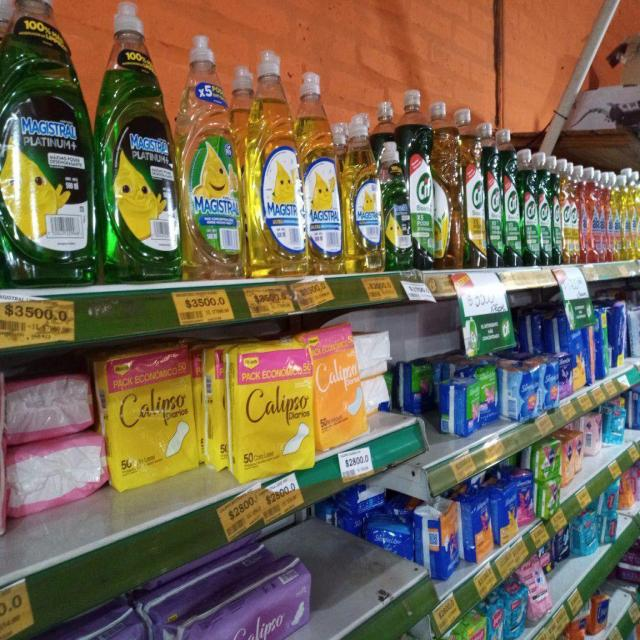ala_conc_amarillo: (621, 170, 631, 261), (606, 170, 615, 262), (613, 170, 621, 262), (631, 172, 639, 261)
ala_conc_rojo: (590, 167, 605, 263), (580, 164, 590, 264)
cif_conc_bot_amarilla: (434, 101, 461, 270), (465, 123, 486, 269), (562, 158, 576, 265)
cif_conc_botella_verde: (409, 89, 434, 270), (487, 124, 504, 267), (504, 132, 522, 267), (523, 148, 538, 266), (539, 152, 552, 266), (552, 155, 561, 265)
magistral_con_amarillo: (246, 48, 302, 279), (303, 67, 343, 275), (344, 110, 382, 272)
